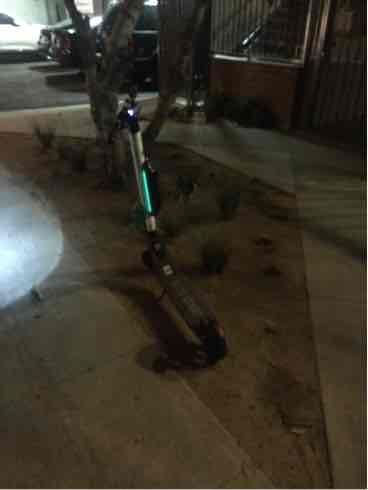scooter: (74, 85, 237, 377)
